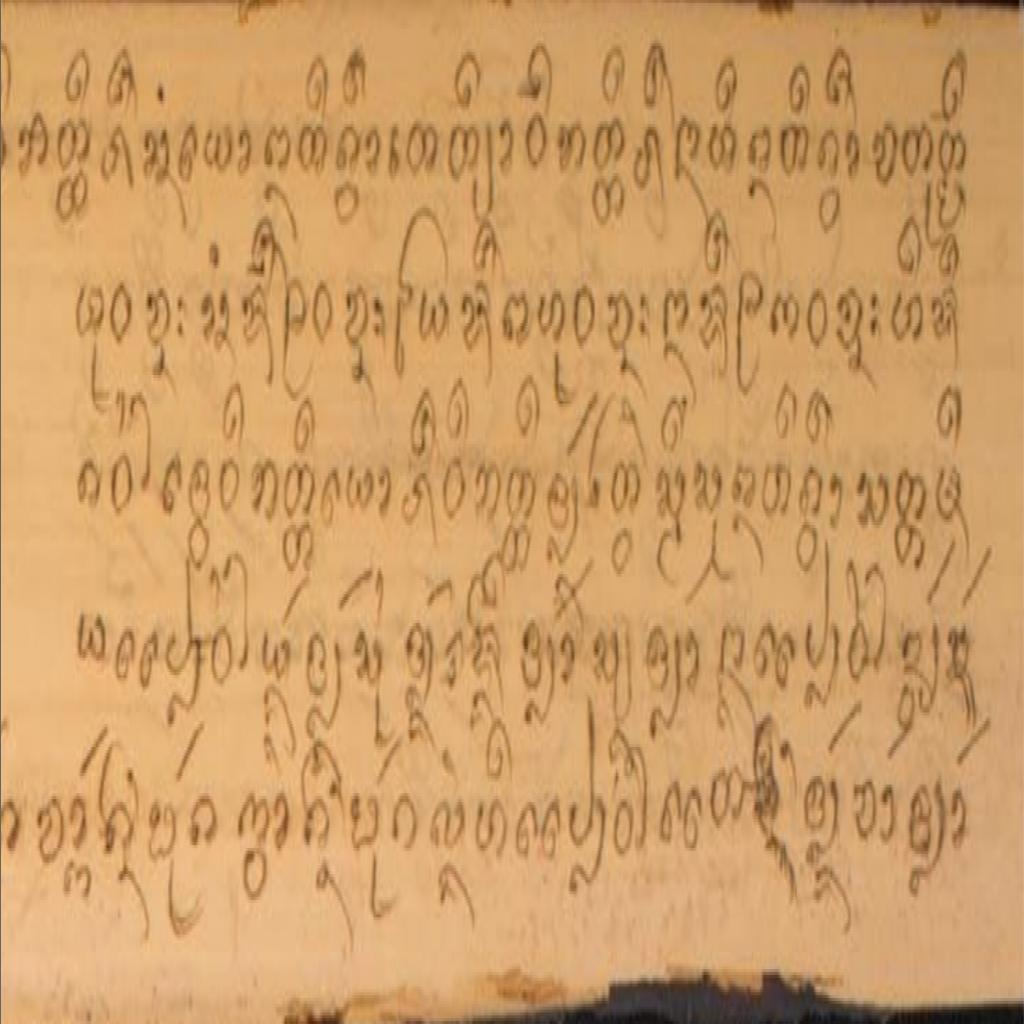LN008: (698, 278, 732, 360)
